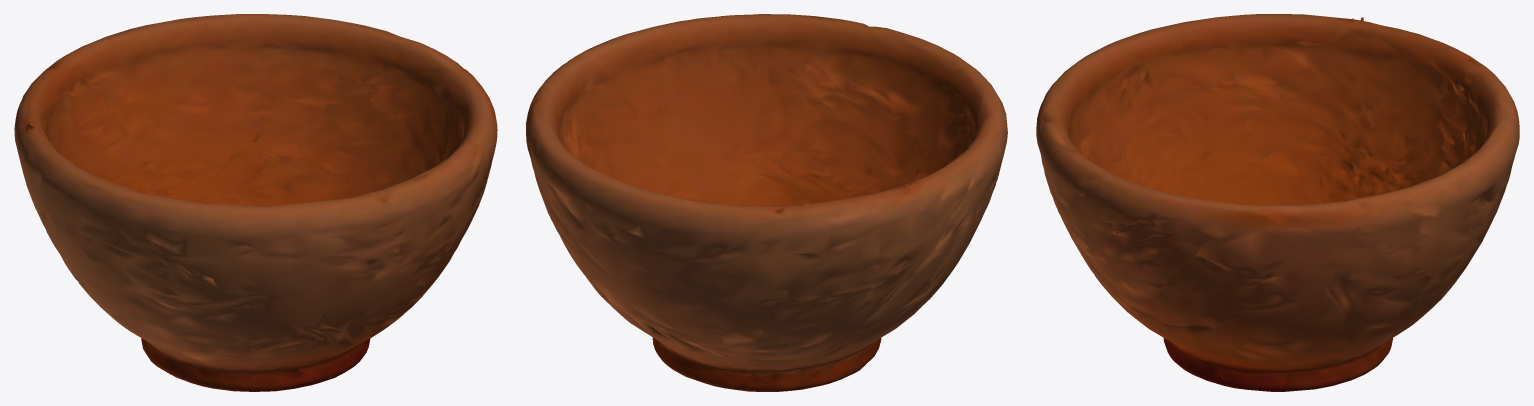
File: copita.glb
The picture shows the model from 3 angles, left to right: view 1: azimuth 30°, elevation 25°; view 2: azimuth 150°, elevation 25°; view 3: azimuth 270°, elevation 25°; orthographic projection.
Visible parts, largest first — view 1: tripo_node_e6978375-eac7-4ec0-b033-8b302122257b; view 2: tripo_node_e6978375-eac7-4ec0-b033-8b302122257b; view 3: tripo_node_e6978375-eac7-4ec0-b033-8b302122257b.
Boxes of the visible parts, x1,y1,x2,y2 form: tripo_node_e6978375-eac7-4ec0-b033-8b302122257b: [14, 14, 497, 391]; tripo_node_e6978375-eac7-4ec0-b033-8b302122257b: [526, 14, 1007, 391]; tripo_node_e6978375-eac7-4ec0-b033-8b302122257b: [1036, 14, 1519, 391].
Size of the model in its own units: 0.9984 by 0.5484 by 0.9994.
1 material, 1 textured.
